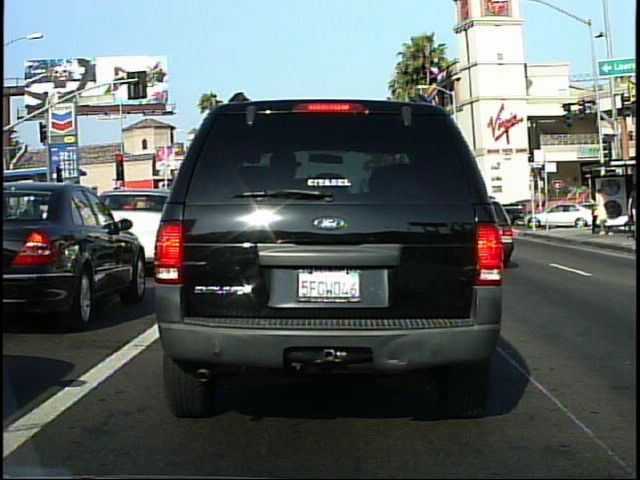person: (592, 183, 611, 240), (519, 200, 532, 228)
